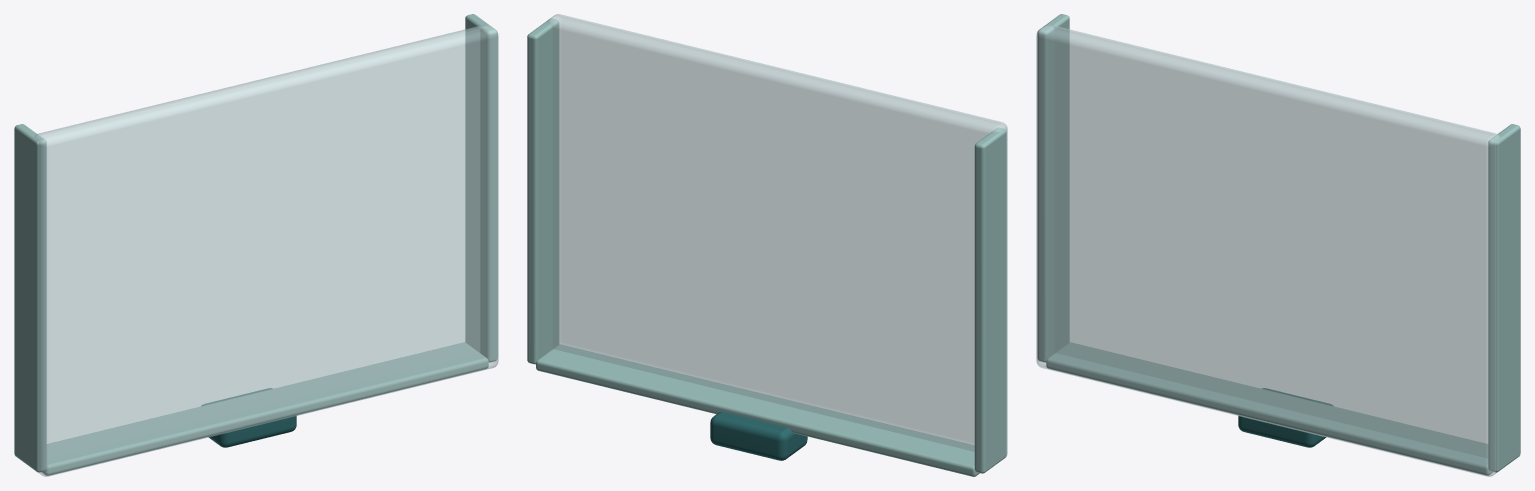
The model's file is lid.glb.
3 views of the same model, side by side, from view 1: azimuth 30°, elevation 25°; view 2: azimuth 150°, elevation 25°; view 3: azimuth 330°, elevation 25° (orthographic).
Parts seen in each view (by area): view 1: clear_cover, cover_front_edge, cover_edge_left, cover_edge_right, lid_latch; view 2: clear_cover, cover_front_edge, cover_edge_left, cover_edge_right, lid_latch; view 3: clear_cover, cover_front_edge, cover_edge_right, cover_edge_left, lid_latch.
Boxes of the visible parts, x1,y1,x2,y2 form: clear_cover: (35, 24, 498, 476); cover_front_edge: (41, 342, 488, 475); cover_edge_left: (14, 124, 46, 472); cover_edge_right: (465, 14, 497, 362); lid_latch: (202, 388, 296, 447); clear_cover: (547, 14, 1007, 455); cover_front_edge: (536, 344, 979, 476); cover_edge_left: (974, 127, 1006, 473); cover_edge_right: (527, 18, 559, 364); lid_latch: (710, 411, 807, 460); clear_cover: (1036, 24, 1499, 476); cover_front_edge: (1046, 342, 1493, 475); cover_edge_right: (1488, 124, 1520, 472); cover_edge_left: (1037, 14, 1069, 362); lid_latch: (1238, 388, 1332, 447).
Bounding box in the file's own units: 0.131 × 0.099 × 0.0185.
